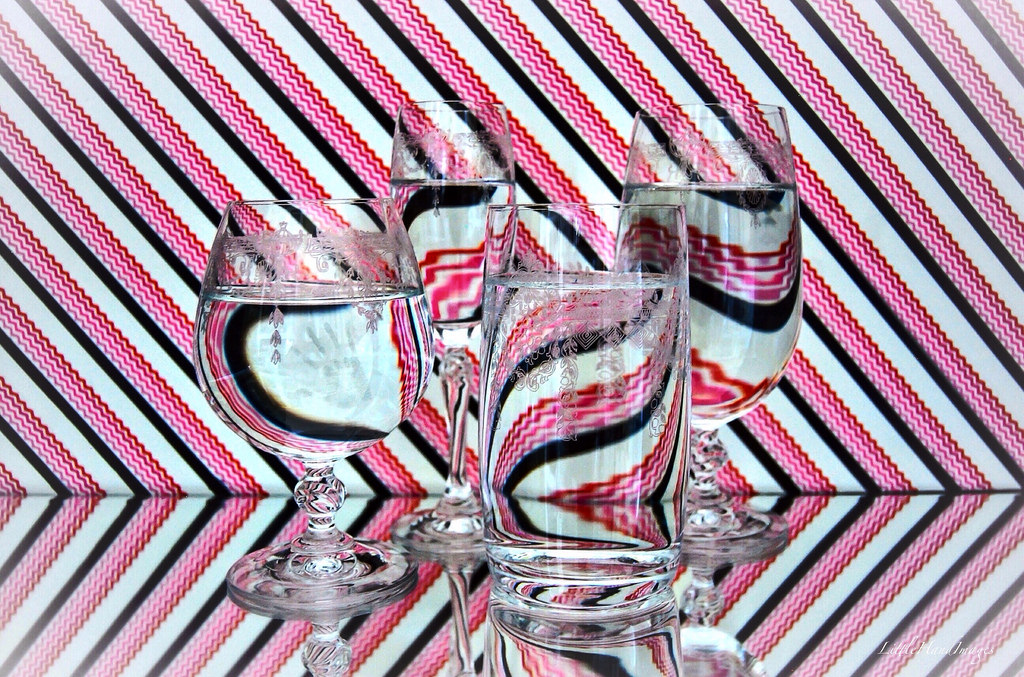glass of water: (482, 191, 710, 649), (196, 190, 416, 619), (615, 91, 802, 570), (382, 73, 517, 578)
